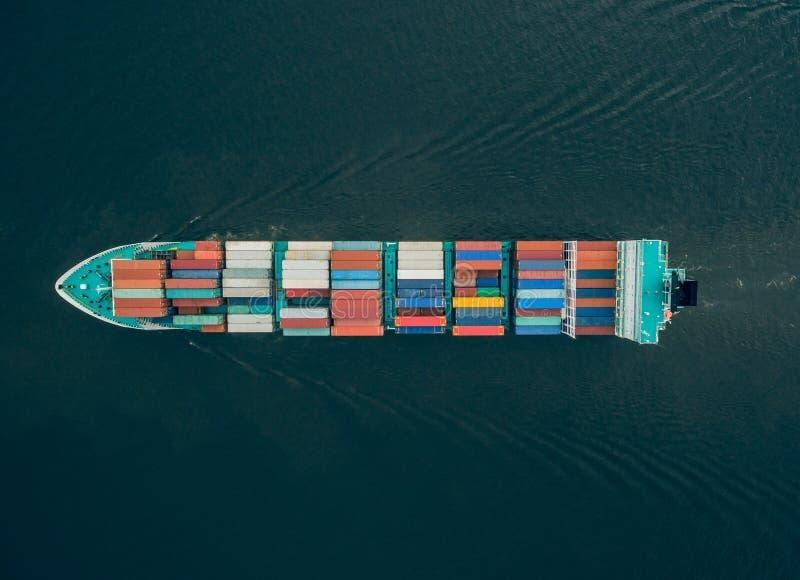Boat: (53, 235, 700, 343)
